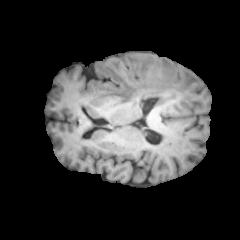glioma: (98, 54, 199, 124)
